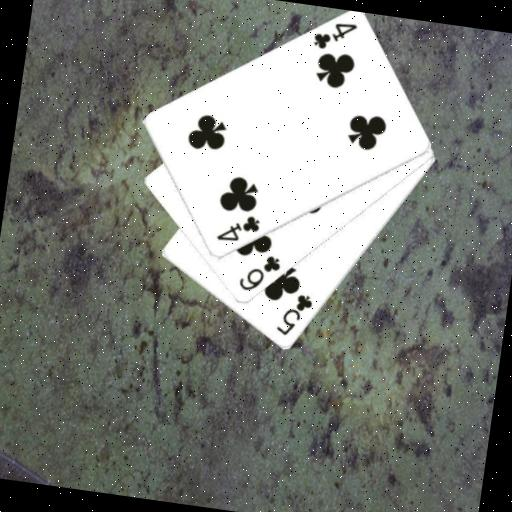4C: (309, 16, 360, 56), (213, 208, 263, 248)
5C: (272, 289, 316, 341)
6C: (235, 249, 284, 297)
